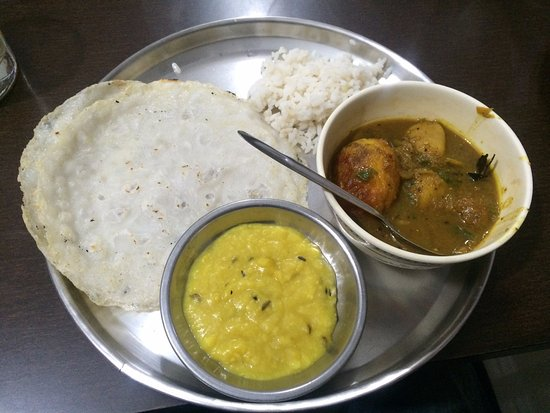curry: (335, 124, 510, 247), (200, 224, 325, 380)
egg: (344, 134, 412, 224)
rice: (260, 52, 355, 121)
roti: (26, 78, 251, 280)
